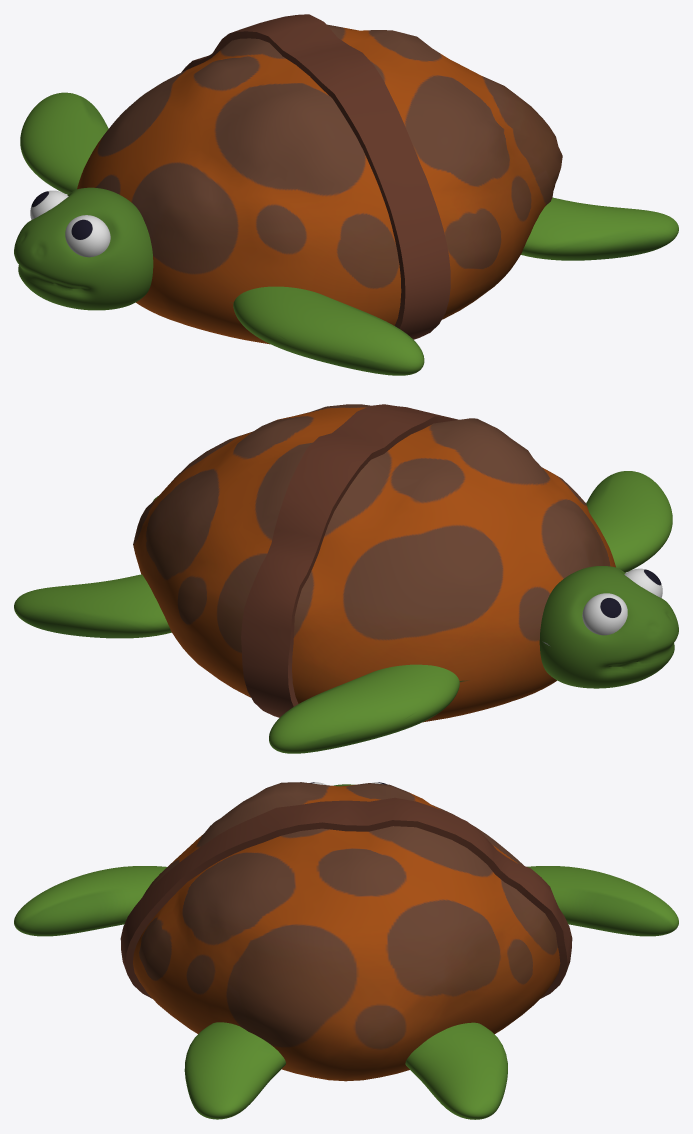
Rendered from Turtle.fbx.
3 renders of one model, top to bottom at view 1: azimuth 30°, elevation 25°; view 2: azimuth 150°, elevation 25°; view 3: azimuth 270°, elevation 25°, orthographic. The views are drawn at different scales.
Parts seen in each view (by area): view 1: Turtle; view 2: Turtle; view 3: Turtle.
Part boxes in pixels (box(x1,y1,x2,y2)): Turtle: box(14, 14, 678, 375); Turtle: box(14, 404, 678, 753); Turtle: box(14, 782, 678, 1119).
Size of the model in its own units: 842 by 335 by 900.
2 materials, 1 textured.
